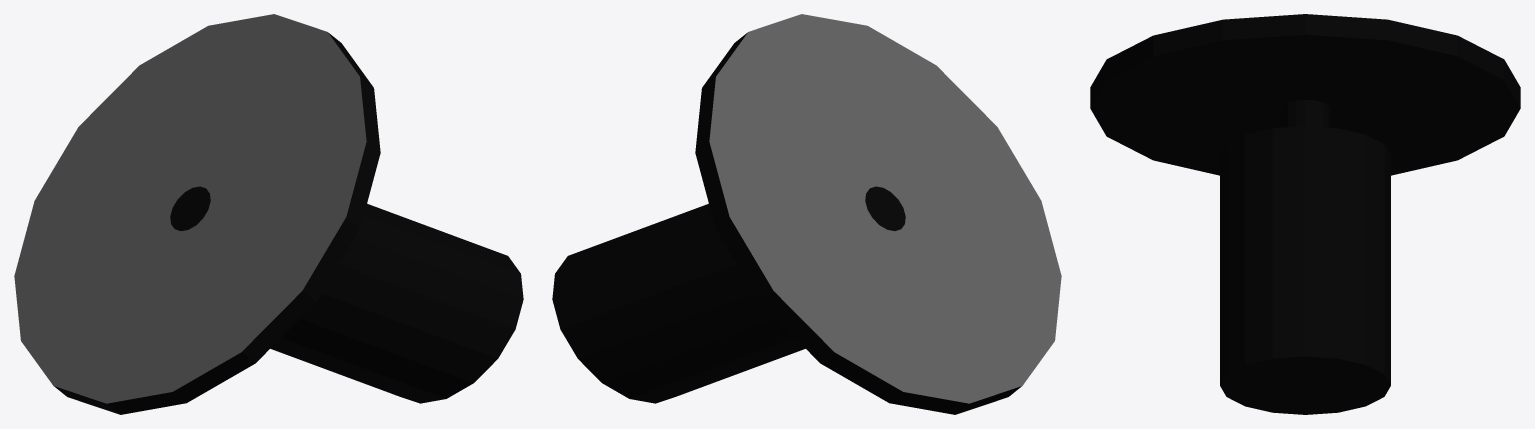
File: JTV Utility Car Steering Wheel.obj
3 renders of one model, left to right at view 1: azimuth 30°, elevation 25°; view 2: azimuth 150°, elevation 25°; view 3: azimuth 270°, elevation 25°, orthographic. The views are drawn at different scales.
Parts seen in each view (by area): view 1: JTV-Steering-Wheel_Cylinder; view 2: JTV-Steering-Wheel_Cylinder; view 3: JTV-Steering-Wheel_Cylinder.
Part boxes in pixels (x1,y1,x2,y2): JTV-Steering-Wheel_Cylinder: (14, 14, 523, 414); JTV-Steering-Wheel_Cylinder: (552, 14, 1061, 414); JTV-Steering-Wheel_Cylinder: (1090, 14, 1520, 414).
Size of the model in its own units: 1.37 by 1.1 by 1.17.
